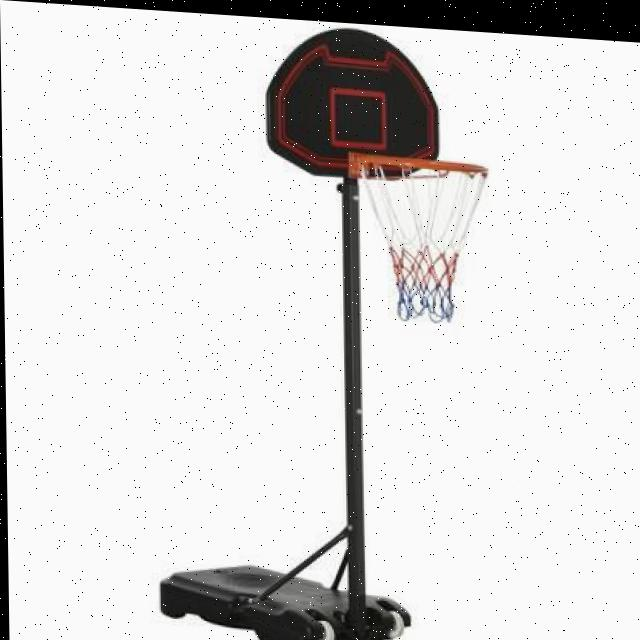hoop: (359, 155, 491, 328)
